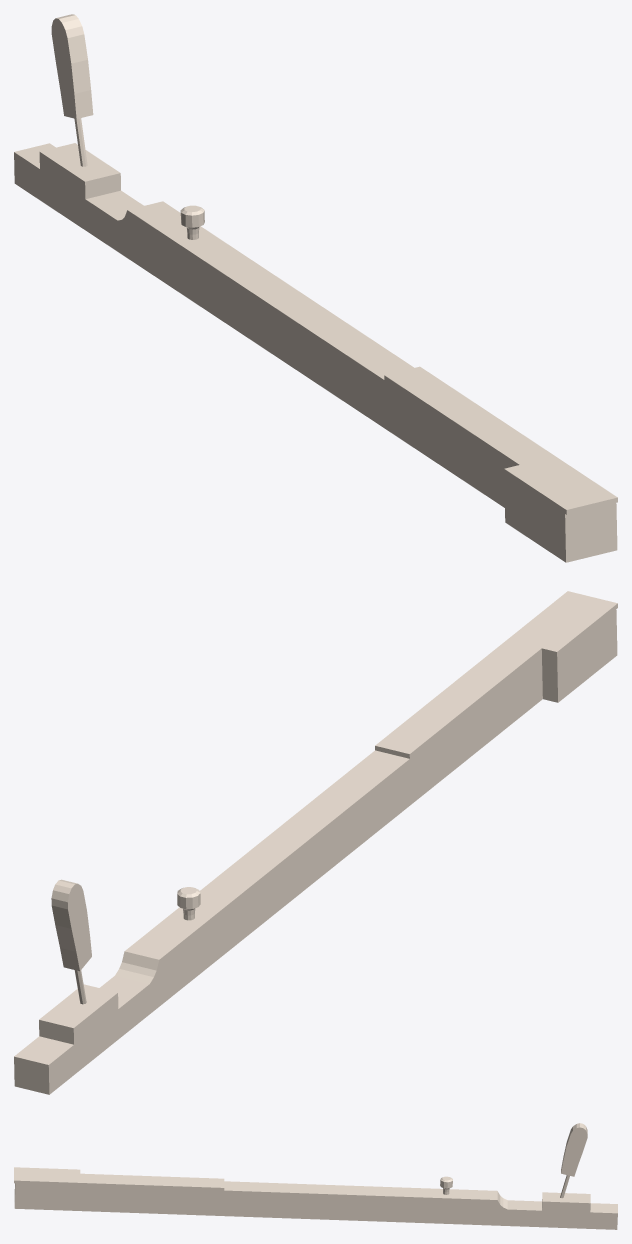
Rendered from key_base_white02.obj.
3 renders of one model, top to bottom at view 1: azimuth 30°, elevation 25°; view 2: azimuth 150°, elevation 25°; view 3: azimuth 270°, elevation 25°, orthographic. The views are drawn at different scales.
Visible parts, largest first — view 1: white_keys.002_Cube.124; view 2: white_keys.002_Cube.124; view 3: white_keys.002_Cube.124.
Boxes of the visible parts, x1=… form: white_keys.002_Cube.124: x1=14, y1=14, x2=617, y2=562; white_keys.002_Cube.124: x1=14, y1=591, x2=617, y2=1094; white_keys.002_Cube.124: x1=14, y1=1123, x2=617, y2=1229.
Bounding box in the file's own units: 0.0308 × 0.1079 × 0.5911.
1 material, 1 textured.
